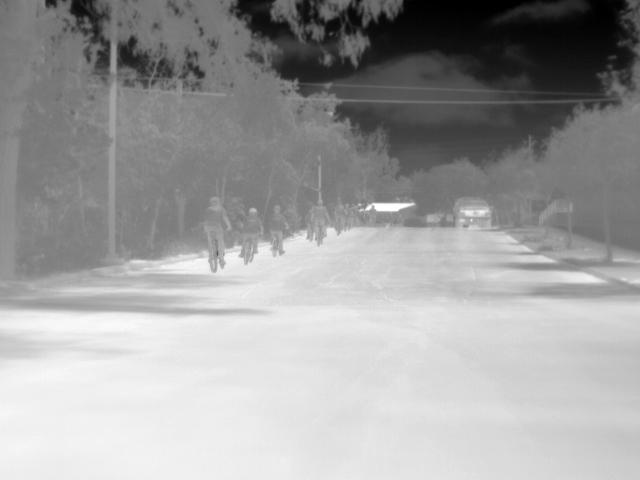car: (450, 195, 496, 229)
person: (200, 194, 231, 266), (236, 206, 264, 257), (266, 205, 289, 254), (308, 199, 330, 242), (333, 198, 347, 230), (367, 204, 380, 224)
